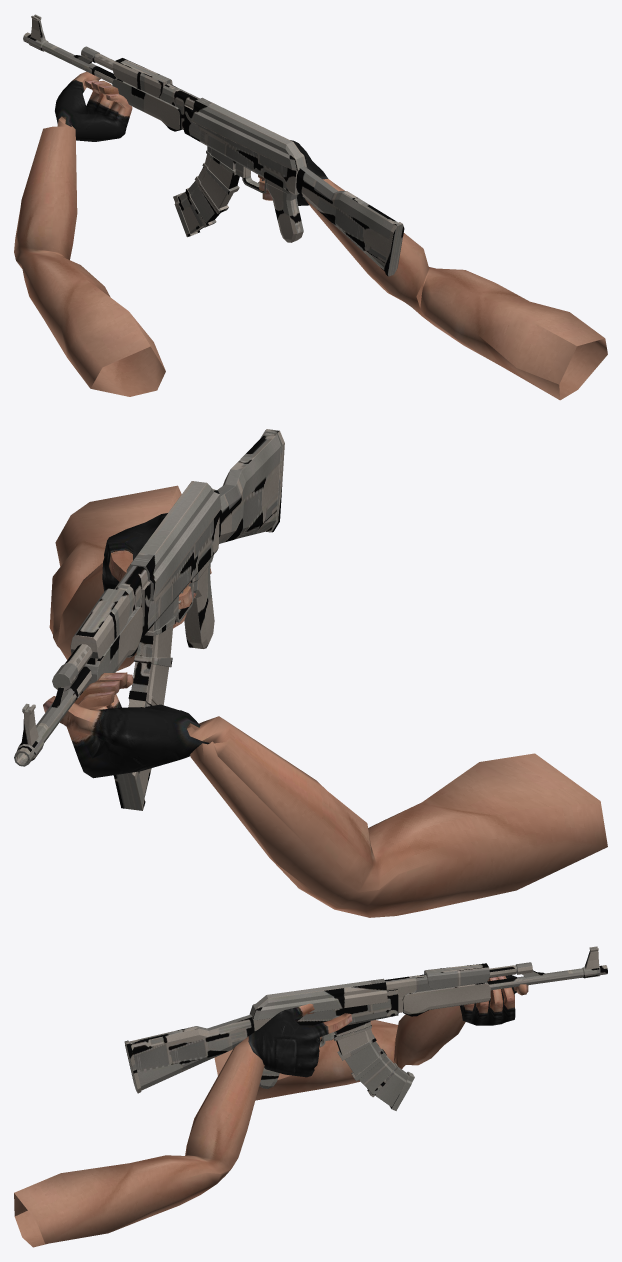
Rendered from gun_ak.glb.
3 views of the same model, one above another, from view 1: azimuth 30°, elevation 25°; view 2: azimuth 150°, elevation 25°; view 3: azimuth 270°, elevation 25° (orthographic). The views are drawn at different scales.
Parts seen in each view (by area): view 1: body_ARMS, body_QUATP, body_QUAT, mag_QUATP; view 2: body_ARMS, body_QUATP, body_QUAT, mag_QUATP; view 3: body_ARMS, body_QUATP, body_QUAT, mag_QUATP.
Boxes of the visible parts, x1=… form: body_ARMS: x1=14, y1=71, x2=607, y2=400; body_QUATP: x1=23, y1=15, x2=404, y2=276; body_QUAT: x1=23, y1=14, x2=307, y2=195; mag_QUATP: x1=173, y1=146, x2=239, y2=237; body_ARMS: x1=43, y1=485, x2=607, y2=917; body_QUATP: x1=14, y1=429, x2=284, y2=766; body_QUAT: x1=14, y1=481, x2=221, y2=766; mag_QUATP: x1=113, y1=601, x2=175, y2=810; body_ARMS: x1=14, y1=975, x2=528, y2=1247; body_QUATP: x1=124, y1=947, x2=607, y2=1093; body_QUAT: x1=249, y1=946, x2=607, y2=1046; mag_QUATP: x1=333, y1=1021, x2=414, y2=1110.
Bounding box in the file's own units: 79.35 × 38.22 × 106.
3 materials, 3 textured.
